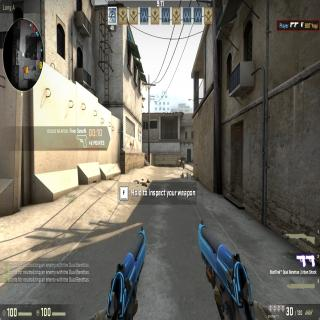T-Body: (180, 154, 184, 168)
